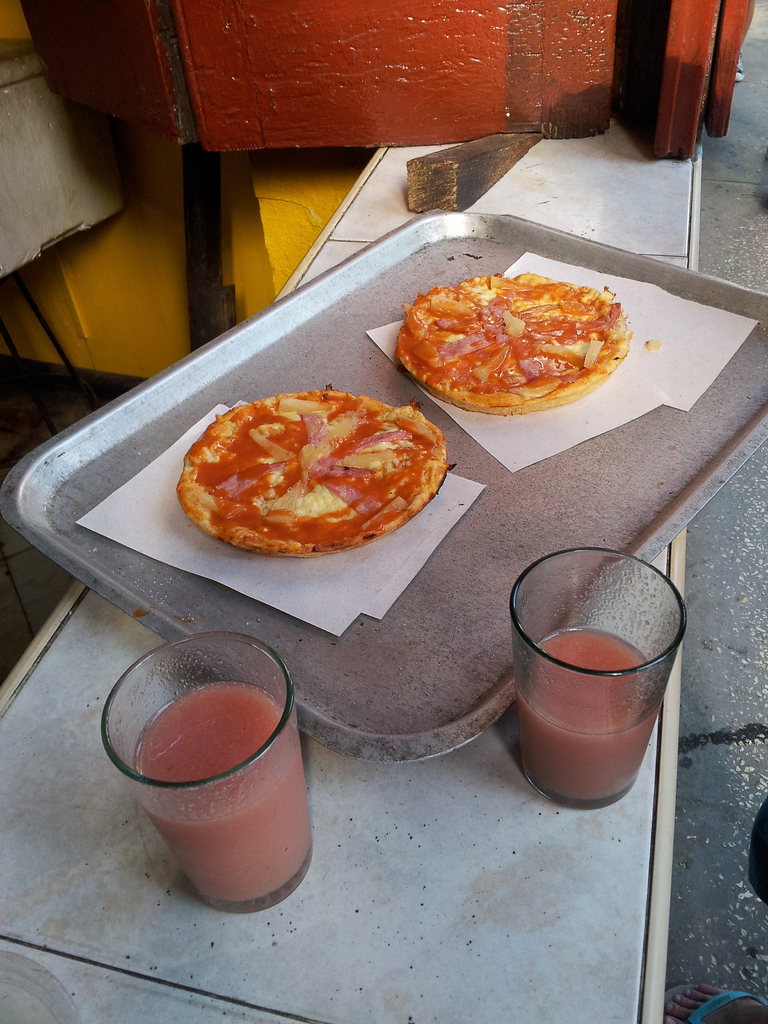Pizza: (171, 389, 449, 551), (403, 273, 632, 416)
